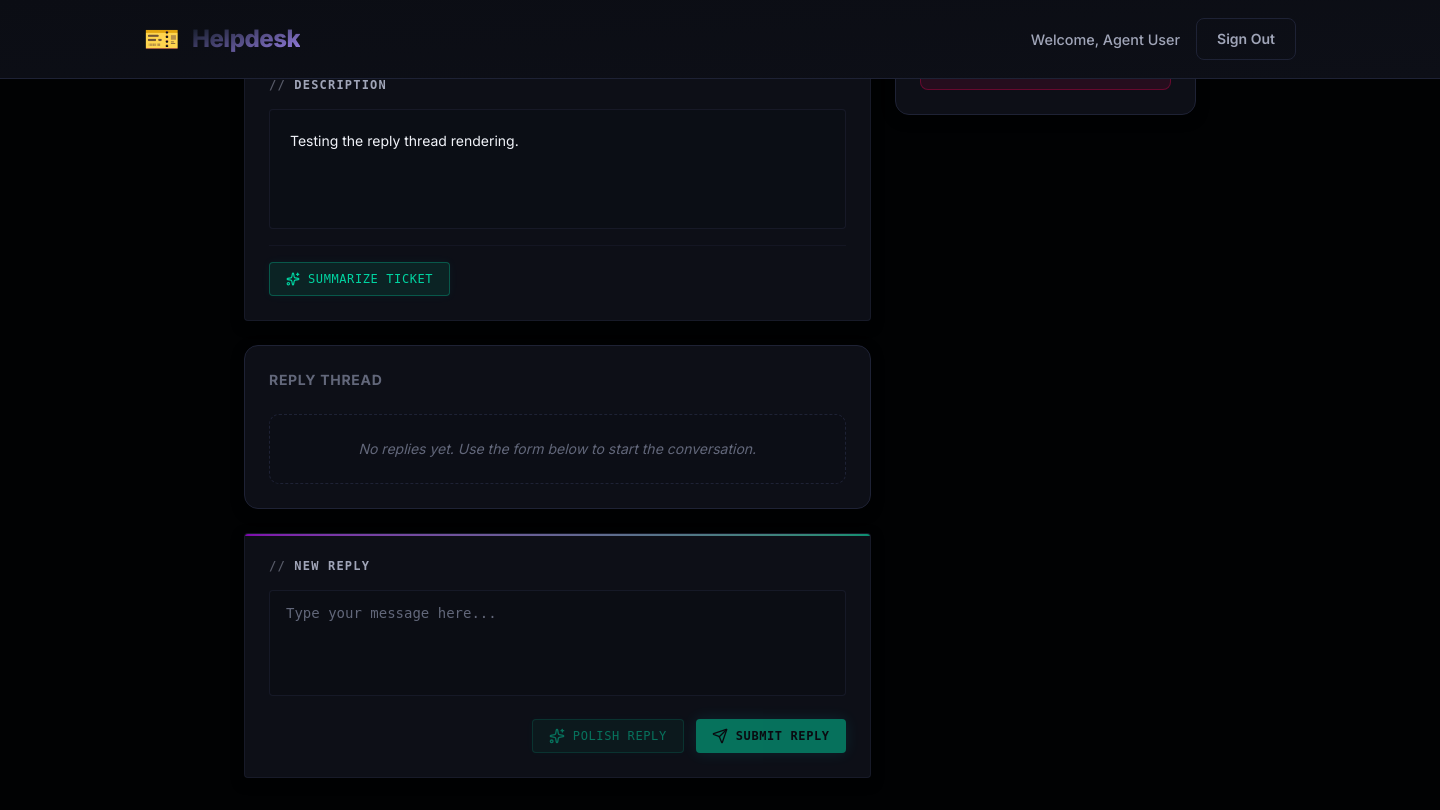
Test: TicketDetails - Reply Thread › shows success toast after a reply is submitted successfully
The width and height of the screenshot is (1440, 810).
(page scrolled)
Type "A test reply" into the text box with placeholder "Type your message here..." at (557, 643), box [269,590,846,696]
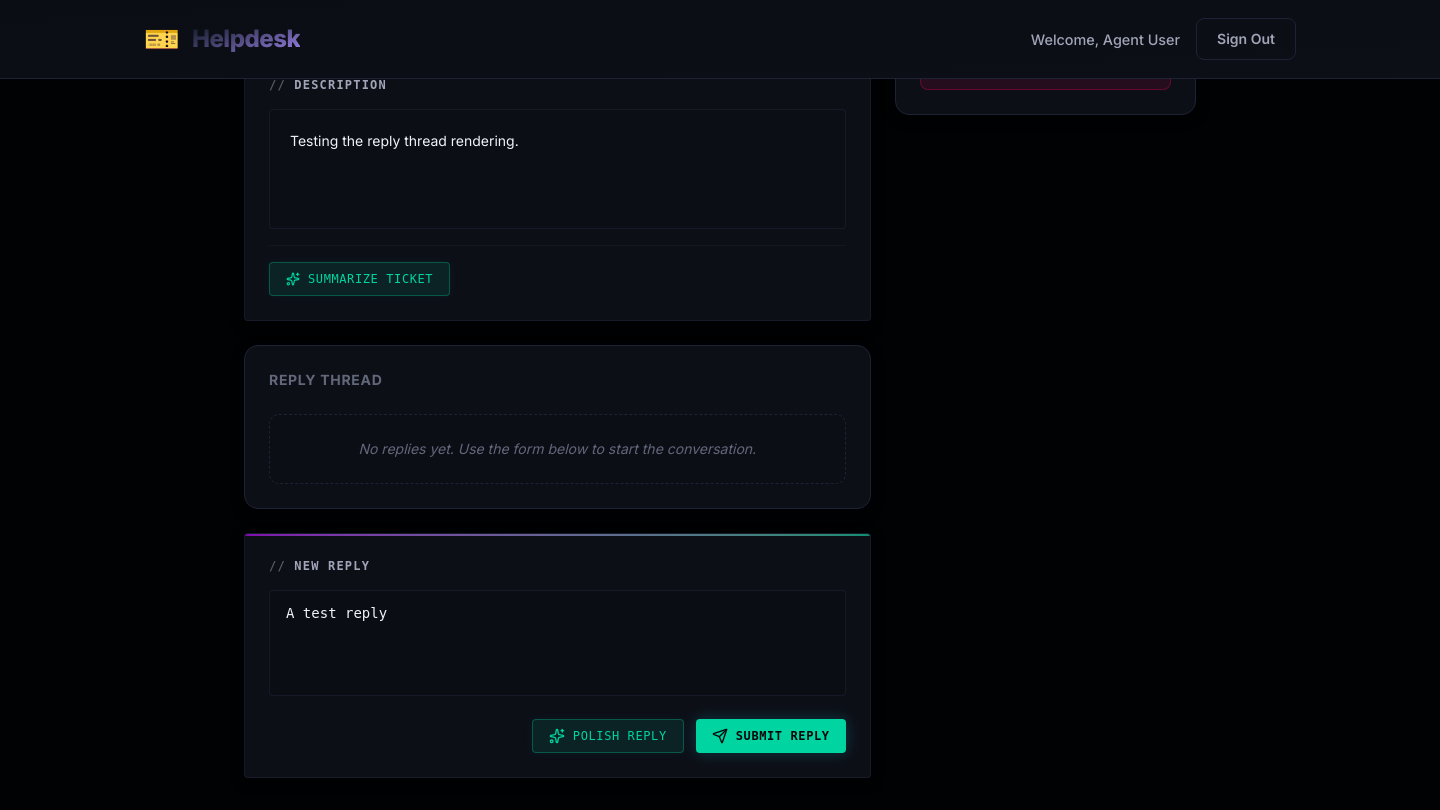
Click the button "Submit Reply" at (771, 736), box [696,719,846,753]
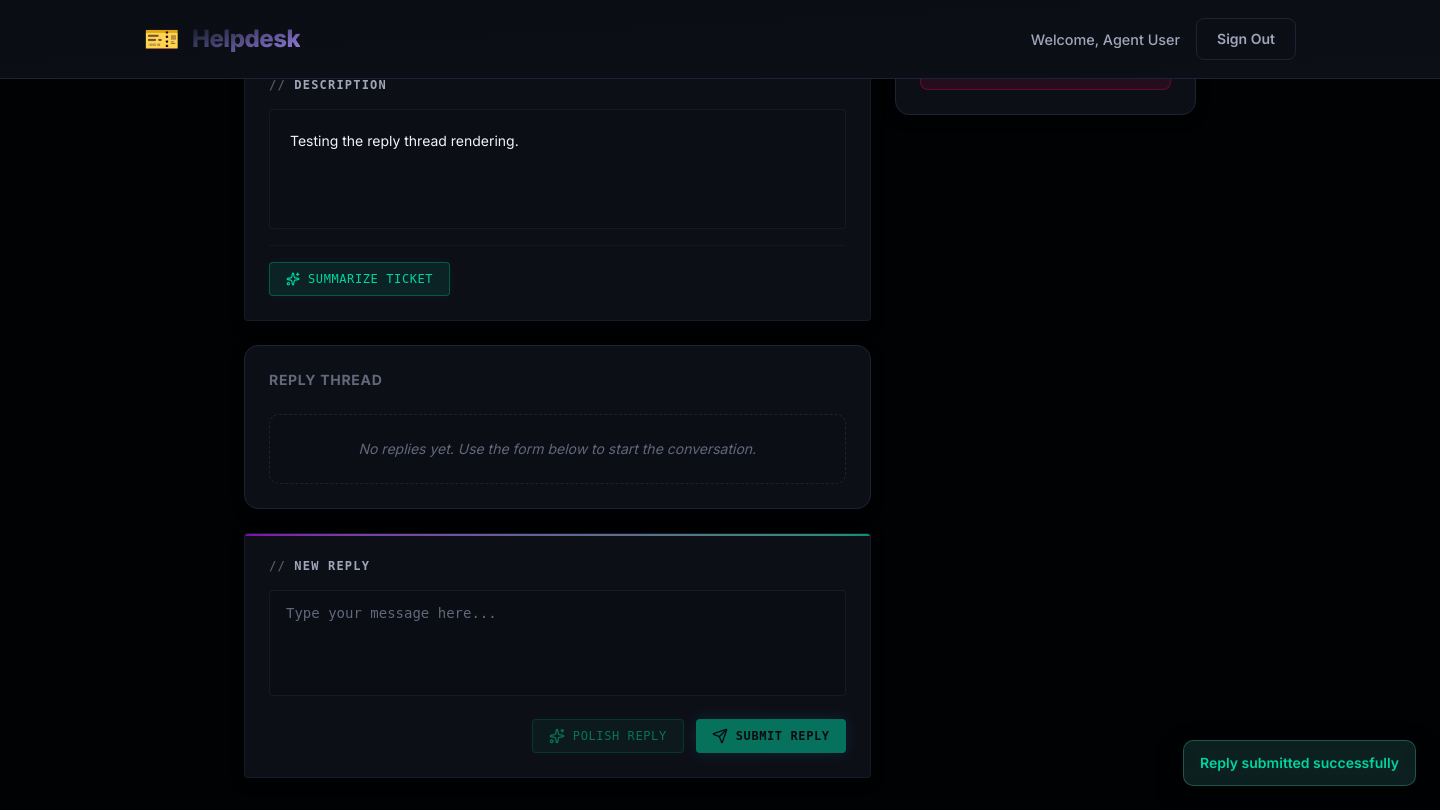
Now the text "Reply submitted successfully" is shown, box [1200,753,1399,773]
